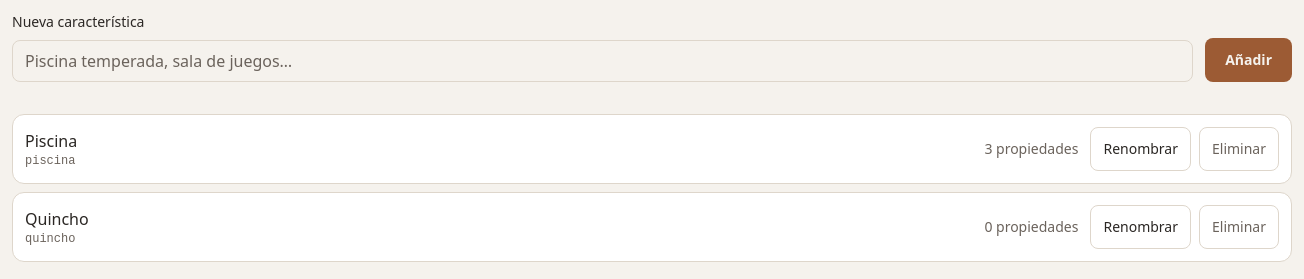
Test: FeatureManager › cancelar deja el nombre como estaba
The image size is (1304, 279).
Click the button named "Renombrar Piscina": point(1141, 149) 1090,127 -> 1191,171
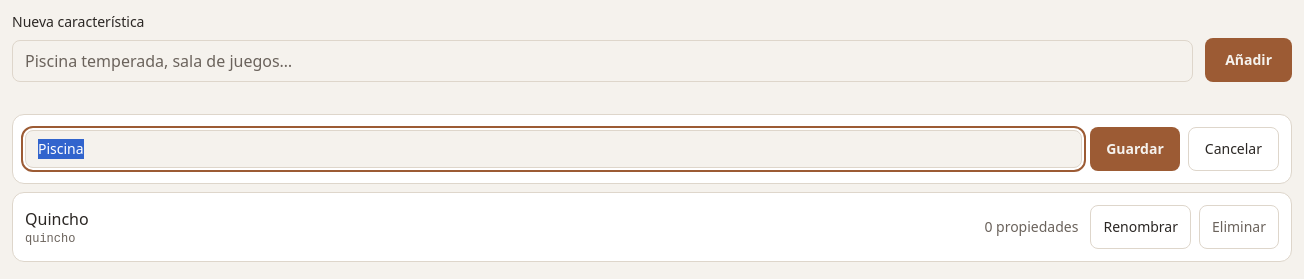
Click the button "Cancelar": point(1233, 149) 1188,127 -> 1279,171
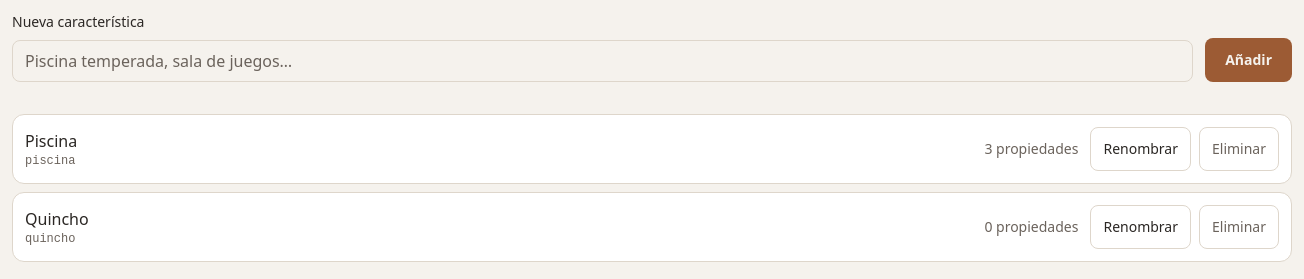
Now the text "Piscina" is shown, box 25,130 -> 77,152
